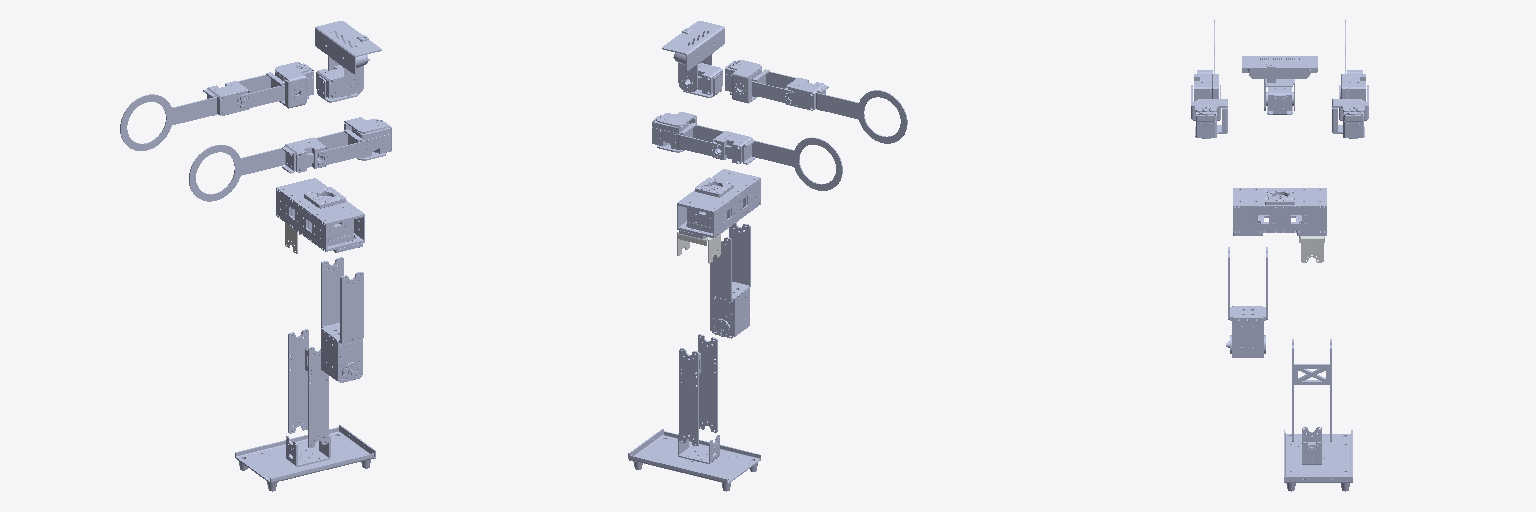
--- Render facts (derived) ---
3 views of the same robot in one strip: view 1: azimuth 30°, elevation 25°; view 2: azimuth 150°, elevation 25°; view 3: azimuth 270°, elevation 25° (orthographic).
Robot: robocup — 26 links, 25 joints (20 revolute, 5 fixed); root link waist_link; default pose: every joint at zero.
Visible links, largest first — view 1: right_thigh_link, waist_link, left_foot_link, left_shank_link, right_elbow_link, left_elbow_link, head_link, right_upper_arm_link, left_upper_arm_link, left_shoulder_link, neck_link, right_shoulder_link; view 2: left_foot_link, waist_link, right_thigh_link, left_shank_link, left_elbow_link, right_elbow_link, head_link, left_upper_arm_link, right_upper_arm_link, right_shoulder_link, neck_link, left_hip_yaw_link; view 3: waist_link, left_foot_link, right_thigh_link, head_link, left_shank_link, right_upper_arm_link, left_elbow_link, left_upper_arm_link, neck_link, right_elbow_link, left_hip_yaw_link, left_shoulder_link (+1 smaller).
Link boxes in pixels (x1,y1,x2,y2): right_thigh_link: (321,257,363,382); waist_link: (276,178,364,252); left_foot_link: (235,425,375,491); left_shank_link: (288,329,328,447); right_elbow_link: (189,137,327,201); left_elbow_link: (120,81,249,150); head_link: (315,21,381,96); right_upper_arm_link: (315,120,391,166); left_upper_arm_link: (237,63,313,109); left_shoulder_link: (275,62,308,108); neck_link: (316,65,357,102); right_shoulder_link: (344,117,385,160); left_foot_link: (628,429,760,491); waist_link: (677,169,760,238); right_thigh_link: (710,222,750,338); left_shank_link: (679,334,717,445); left_elbow_link: (712,131,842,190); right_elbow_link: (785,77,907,143); head_link: (662,21,724,91); left_upper_arm_link: (652,115,723,157); right_upper_arm_link: (725,61,796,104); right_shoulder_link: (730,60,761,103); neck_link: (683,63,722,97); left_hip_yaw_link: (677,232,720,263); waist_link: (1233,188,1326,235); left_foot_link: (1284,427,1352,491); right_thigh_link: (1226,247,1267,357); head_link: (1242,56,1317,110); left_shank_link: (1292,339,1331,441); right_upper_arm_link: (1191,85,1220,138); left_elbow_link: (1340,20,1365,101); left_upper_arm_link: (1339,85,1368,138); neck_link: (1266,87,1293,114); right_elbow_link: (1194,20,1218,101); left_hip_yaw_link: (1299,236,1324,262); left_shoulder_link: (1332,99,1364,136).
Bounding box of the posed robot: 0.3401 × 0.246 × 0.6397 m (x, y, z).
Meshes: 26 distinct files referenced, 13 mesh visuals loaded (13 binary STL); not drawn: 9 (reference not matched to a file when rendering), 4 (file found but could not be loaded).

robot.urdf — robocup:
<?xml version="1.0" encoding="utf-8"?>
<!-- This URDF was automatically created by SolidWorks to URDF Exporter! Originally created by Stephen Brawner ([email redacted]) 
     Commit Version: 1.6.0-1-g15f4949  Build Version: 1.6.7594.29634
     For more information, please see http://wiki.ros.org/sw_urdf_exporter -->
<robot
  name="robocup">
  <link
    name="waist_link">
    <inertial>
      <origin
        xyz="-0.00948845469061838 -6.68530231173747E-11 -0.000683773345869103"
        rpy="0 0 0" />
      <mass
        value="0.209221695507511" />
      <inertia
        ixx="0.000338900830786708"
        ixy="1.46750011912089E-13"
        ixz="1.35893885481487E-06"
        iyy="9.89997448670401E-05"
        iyz="-9.82828065500093E-13"
        izz="0.000355347917020957" />
    </inertial>
    <visual>
      <origin
        xyz="0 0 0"
        rpy="0 0 0" />
      <geometry>
        <mesh
          filename="package://robocup/meshes/waist_link.STL" />
      </geometry>
      <material
        name="">
        <color
          rgba="0.792156862745098 0.819607843137255 0.933333333333333 1" />
      </material>
    </visual>
    <collision>
      <origin
        xyz="0 0 0"
        rpy="0 0 0" />
      <geometry>
        <mesh
          filename="package://robocup/meshes/waist_link.STL" />
      </geometry>
    </collision>
  </link>
  <link
    name="trunk_link">
    <inertial>
      <origin
        xyz="-0.00207929488403982 -0.000148840580601925 0.0988291319345805"
        rpy="0 0 0" />
      <mass
        value="0.6396320994188" />
      <inertia
        ixx="0.00207382837512233"
        ixy="7.20391665944341E-07"
        ixz="-0.000145762768834739"
        iyy="0.00159922346192905"
        iyz="2.52085914195858E-06"
        izz="0.0020054336515524" />
    </inertial>
    <visual>
      <origin
        xyz="0 0 0"
        rpy="0 0 0" />
      <geometry>
        <mesh
          filename="package://robocup/meshes/trunk_link.STL" />
      </geometry>
      <material
        name="">
        <color
          rgba="0.792156862745098 0.819607843137255 0.933333333333333 1" />
      </material>
    </visual>
    <collision>
      <origin
        xyz="0 0 0"
        rpy="0 0 0" />
      <geometry>
        <mesh
          filename="package://robocup/meshes/trunk_link.STL" />
      </geometry>
    </collision>
  </link>
  <joint
    name="waist_yaw_joint"
    type="revolute">
    <origin
      xyz="0 0 0"
      rpy="0 0 0" />
    <parent
      link="waist_link" />
    <child
      link="trunk_link" />
    <axis
      xyz="0 0 1" />
    <limit
      lower="0"
      upper="0"
      effort="0"
      velocity="0" />
  </joint>
  <link
    name="left_shoulder_link">
    <inertial>
      <origin
        xyz="0.00303632774271409 0.0362469594639394 3.30291349825984E-15"
        rpy="0 0 0" />
      <mass
        value="0.00852928935190161" />
      <inertia
        ixx="4.46332786917041E-06"
        ixy="-3.52494995340182E-07"
        ixz="-2.32097760255092E-20"
        iyy="3.60847595287127E-06"
        iyz="1.53828069121075E-21"
        izz="2.76664423653777E-06" />
    </inertial>
    <visual>
      <origin
        xyz="0 0 0"
        rpy="0 0 0" />
      <geometry>
        <mesh
          filename="package://robocup/meshes/left_shoulder_link.STL" />
      </geometry>
      <material
        name="">
        <color
          rgba="0.792156862745098 0.819607843137255 0.933333333333333 1" />
      </material>
    </visual>
    <collision>
      <origin
        xyz="0 0 0"
        rpy="0 0 0" />
      <geometry>
        <mesh
          filename="package://robocup/meshes/left_shoulder_link.STL" />
      </geometry>
    </collision>
  </link>
  <joint
    name="left_shoulder_pitch_joint"
    type="revolute">
    <origin
      xyz="0 0.053 0.14675"
      rpy="0 0 0" />
    <parent
      link="trunk_link" />
    <child
      link="left_shoulder_link" />
    <axis
      xyz="0 -1 0" />
    <limit
      lower="0"
      upper="0"
      effort="0"
      velocity="0" />
  </joint>
  <link
    name="left_upper_arm_link">
    <inertial>
      <origin
        xyz="0.000678411211440078 -1.89875708676845E-07 -0.0191217777296798"
        rpy="0 0 0" />
      <mass
        value="0.0510794115590111" />
      <inertia
        ixx="3.13133402075074E-05"
        ixy="-6.57973359321893E-12"
        ixz="-3.53618283016182E-07"
        iyy="3.06157554760576E-05"
        iyz="2.63047056127221E-10"
        izz="9.80852784205313E-06" />
    </inertial>
    <visual>
      <origin
        xyz="0 0 0"
        rpy="0 0 0" />
      <geometry>
        <mesh
          filename="package://robocup/meshes/left_upper_arm_link.STL" />
      </geometry>
      <material
        name="">
        <color
          rgba="0.792156862745098 0.819607843137255 0.933333333333333 1" />
      </material>
    </visual>
    <collision>
      <origin
        xyz="0 0 0"
        rpy="0 0 0" />
      <geometry>
        <mesh
          filename="package://robocup/meshes/left_upper_arm_link.STL" />
      </geometry>
    </collision>
  </link>
  <joint
    name="left_upper_arm_roll_joint"
    type="revolute">
    <origin
      xyz="0.02425 0.049 0"
      rpy="3.1416 -1.5708 0" />
    <parent
      link="left_shoulder_link" />
    <child
      link="left_upper_arm_link" />
    <axis
      xyz="-1 0 0" />
    <limit
      lower="0"
      upper="0"
      effort="0"
      velocity="0" />
  </joint>
  <link
    name="left_elbow_link">
    <inertial>
      <origin
        xyz="1.63757896132211E-15 0.00252047924263998 -0.0277428195775701"
        rpy="0 0 0" />
      <mass
        value="0.0517677575592799" />
      <inertia
        ixx="9.19234340675184E-05"
        ixy="-3.6598858936204E-21"
        ixz="-2.70805105099186E-20"
        iyy="9.30268857885933E-05"
        iyz="6.58323683446754E-06"
        izz="1.05633111734916E-05" />
    </inertial>
    <visual>
      <origin
        xyz="0 0 0"
        rpy="0 0 0" />
      <geometry>
        <mesh
          filename="package://robocup/meshes/left_elbow_link.STL" />
      </geometry>
      <material
        name="">
        <color
          rgba="0.792156862745098 0.819607843137255 0.933333333333333 1" />
      </material>
    </visual>
    <collision>
      <origin
        xyz="0 0 0"
        rpy="0 0 0" />
      <geometry>
        <mesh
          filename="package://robocup/meshes/left_elbow_link.STL" />
      </geometry>
    </collision>
  </link>
  <joint
    name="left_elbow_pitch_joint"
    type="revolute">
    <origin
      xyz="0 0 -0.10025"
      rpy="0 0 0" />
    <parent
      link="left_upper_arm_link" />
    <child
      link="left_elbow_link" />
    <axis
      xyz="0 -1 0" />
    <limit
      lower="0"
      upper="0"
      effort="0"
      velocity="0" />
  </joint>
  <link
    name="right_shoulder_link">
    <inertial>
      <origin
        xyz="0.00303632774271395 -0.0362469594639394 9.57567358739198E-16"
        rpy="0 0 0" />
      <mass
        value="0.0085292893519016" />
      <inertia
        ixx="4.4633278691704E-06"
        ixy="3.5249499534018E-07"
        ixz="-2.37450475035873E-22"
        iyy="3.60847595287127E-06"
        iyz="3.27353469800624E-21"
        izz="2.76664423653777E-06" />
    </inertial>
    <visual>
      <origin
        xyz="0 0 0"
        rpy="0 0 0" />
      <geometry>
        <mesh
          filename="package://robocup/meshes/right_shoulder_link.STL" />
      </geometry>
      <material
        name="">
        <color
          rgba="0.792156862745098 0.819607843137255 0.933333333333333 1" />
      </material>
    </visual>
    <collision>
      <origin
        xyz="0 0 0"
        rpy="0 0 0" />
      <geometry>
        <mesh
          filename="package://robocup/meshes/right_shoulder_link.STL" />
      </geometry>
    </collision>
  </link>
  <joint
    name="right_shoulder_pitch_joint"
    type="revolute">
    <origin
      xyz="0 -0.053 0.14675"
      rpy="0 0 0" />
    <parent
      link="trunk_link" />
    <child
      link="right_shoulder_link" />
    <axis
      xyz="0 1 0" />
    <limit
      lower="0"
      upper="0"
      effort="0"
      velocity="0" />
  </joint>
  <link
    name="right_upper_arm_link">
    <inertial>
      <origin
        xyz="0.000683044937076008 1.08215084788088E-05 -0.0193161303708199"
        rpy="0 0 0" />
      <mass
        value="0.0511158524108051" />
      <inertia
        ixx="3.18475528264543E-05"
        ixy="4.54446779241524E-10"
        ixz="-4.48940731057543E-07"
        iyy="3.11274405794203E-05"
        iyz="3.94345652689597E-08"
        izz="9.81721455090846E-06" />
    </inertial>
    <visual>
      <origin
        xyz="0 0 0"
        rpy="0 0 0" />
      <geometry>
        <mesh
          filename="package://robocup/meshes/right_upper_arm_link.STL" />
      </geometry>
      <material
        name="">
        <color
          rgba="0.792156862745098 0.819607843137255 0.933333333333333 1" />
      </material>
    </visual>
    <collision>
      <origin
        xyz="0 0 0"
        rpy="0 0 0" />
      <geometry>
        <mesh
          filename="package://robocup/meshes/right_upper_arm_link.STL" />
      </geometry>
    </collision>
  </link>
  <joint
    name="right_upper_arm_roll_joint"
    type="revolute">
    <origin
      xyz="0.02425 -0.049 0"
      rpy="3.1416 -1.5708 0" />
    <parent
      link="right_shoulder_link" />
    <child
      link="right_upper_arm_link" />
    <axis
      xyz="-1 0 0" />
    <limit
      lower="0"
      upper="0"
      effort="0"
      velocity="0" />
  </joint>
  <link
    name="right_elbow_link">
    <inertial>
      <origin
        xyz="1.11022302462516E-16 -0.00230528590818035 -0.0280722416193958"
        rpy="0 0 0" />
      <mass
        value="0.0511468047163823" />
      <inertia
        ixx="9.12967328821757E-05"
        ixy="-4.71058599204397E-21"
        ixz="5.83491703663896E-20"
        iyy="9.25411867194407E-05"
        iyz="-6.89902253698685E-06"
        izz="1.03953224116131E-05" />
    </inertial>
    <visual>
      <origin
        xyz="0 0 0"
        rpy="0 0 0" />
      <geometry>
        <mesh
          filename="package://robocup/meshes/right_elbow_link.STL" />
      </geometry>
      <material
        name="">
        <color
          rgba="0.792156862745098 0.819607843137255 0.933333333333333 1" />
      </material>
    </visual>
    <collision>
      <origin
        xyz="0 0 0"
        rpy="0 0 0" />
      <geometry>
        <mesh
          filename="package://robocup/meshes/right_elbow_link.STL" />
      </geometry>
    </collision>
  </link>
  <joint
    name="right_elbow_pitch_joint"
    type="revolute">
    <origin
      xyz="0 0 -0.10025"
      rpy="0 0 0" />
    <parent
      link="right_upper_arm_link" />
    <child
      link="right_elbow_link" />
    <axis
      xyz="0 1 0" />
    <limit
      lower="0"
      upper="0"
      effort="0"
      velocity="0" />
  </joint>
  <link
    name="neck_link">
    <inertial>
      <origin
        xyz="-0.00156041292470768 -0.000723759920217962 0.0367041914278949"
        rpy="0 0 0" />
      <mass
        value="0.0478789229788551" />
      <inertia
        ixx="8.27547872890049E-06"
        ixy="1.00258688215879E-07"
        ixz="-1.89903966481239E-08"
        iyy="1.34187871471235E-05"
        iyz="4.49034542147312E-08"
        izz="1.40614214294888E-05" />
    </inertial>
    <visual>
      <origin
        xyz="0 0 0"
        rpy="0 0 0" />
      <geometry>
        <mesh
          filename="package://robocup/meshes/neck_link.STL" />
      </geometry>
      <material
        name="">
        <color
          rgba="0.792156862745098 0.819607843137255 0.933333333333333 1" />
      </material>
    </visual>
    <collision>
      <origin
        xyz="0 0 0"
        rpy="0 0 0" />
      <geometry>
        <mesh
          filename="package://robocup/meshes/neck_link.STL" />
      </geometry>
    </collision>
  </link>
  <joint
    name="neck_yaw_joint"
    type="revolute">
    <origin
      xyz="0.021 0 0.1495"
      rpy="0 0 0" />
    <parent
      link="trunk_link" />
    <child
      link="neck_link" />
    <axis
      xyz="0 0 -1" />
    <limit
      lower="0"
      upper="0"
      effort="0"
      velocity="0" />
  </joint>
  <link
    name="head_link">
    <inertial>
      <origin
        xyz="-0.00241864435015915 -0.000578325032218607 0.043331884885227"
        rpy="0 0 0" />
      <mass
        value="0.0703068040668944" />
      <inertia
        ixx="5.41933168038284E-05"
        ixy="1.71317904618446E-07"
        ixz="-1.92864248034834E-07"
        iyy="1.71003833917027E-05"
        iyz="2.75406205939961E-07"
        izz="4.97586290771393E-05" />
    </inertial>
    <visual>
      <origin
        xyz="0 0 0"
        rpy="0 0 0" />
      <geometry>
        <mesh
          filename="package://robocup/meshes/head_link.STL" />
      </geometry>
      <material
        name="">
        <color
          rgba="0.792156862745098 0.819607843137255 0.933333333333333 1" />
      </material>
    </visual>
    <collision>
      <origin
        xyz="0 0 0"
        rpy="0 0 0" />
      <geometry>
        <mesh
          filename="package://robocup/meshes/head_link.STL" />
      </geometry>
    </collision>
  </link>
  <joint
    name="head_pitch_joint"
    type="revolute">
    <origin
      xyz="0.01025 0 0.038"
      rpy="0 0 0" />
    <parent
      link="neck_link" />
    <child
      link="head_link" />
    <axis
      xyz="0 1 0" />
    <limit
      lower="0"
      upper="0"
      effort="0"
      velocity="0" />
  </joint>
  <link
    name="left_hip_yaw_link">
    <inertial>
      <origin
        xyz="-0.000221415113195594 2.87040434199248E-08 -0.0368621298482313"
        rpy="0 0 0" />
      <mass
        value="0.0234087344413401" />
      <inertia
        ixx="5.73715633041054E-06"
        ixy="-1.6778926038732E-11"
        ixz="2.45933010037562E-08"
        iyy="1.23691993953298E-05"
        iyz="2.78039242802723E-12"
        izz="1.27625110986169E-05" />
    </inertial>
    <visual>
      <origin
        xyz="0 0 0"
        rpy="0 0 0" />
      <geometry>
        <mesh
          filename="package://robocup/meshes/left_hip_yaw_link.STL" />
      </geometry>
      <material
        name="">
        <color
          rgba="0.898039215686275 0.917647058823529 0.929411764705882 1" />
      </material>
    </visual>
    <collision>
      <origin
        xyz="0 0 0"
        rpy="0 0 0" />
      <geometry>
        <mesh
          filename="package://robocup/meshes/left_hip_yaw_link.STL" />
      </geometry>
    </collision>
  </link>
  <joint
    name="left_hip_yaw_joint"
    type="revolute">
    <origin
      xyz="0 0.0445 0"
      rpy="0 0 0" />
    <parent
      link="waist_link" />
    <child
      link="left_hip_yaw_link" />
    <axis
      xyz="0 0 -1" />
    <limit
      lower="0"
      upper="0"
      effort="0"
      velocity="0" />
  </joint>
  <link
    name="left_hip_roll_link">
    <inertial>
      <origin
        xyz="0.0264560202844393 2.81419267119387E-05 -0.0154218154218738"
        rpy="0 0 0" />
      <mass
        value="0.185577684373585" />
      <inertia
        ixx="7.62644456712743E-05"
        ixy="-3.53079974453365E-07"
        ixz="7.00492601513896E-07"
        iyy="0.000197383117610255"
        iyz="-1.06809954406819E-07"
        izz="0.000170036099220205" />
    </inertial>
    <visual>
      <origin
        xyz="0 0 0"
        rpy="0 0 0" />
      <geometry>
        <mesh
          filename="package://robocup/meshes/left_hip_roll_link.STL" />
      </geometry>
      <material
        name="">
        <color
          rgba="0.270588235294118 0.270588235294118 0.270588235294118 1" />
      </material>
    </visual>
    <collision>
      <origin
        xyz="0 0 0"
        rpy="0 0 0" />
      <geometry>
        <mesh
          filename="package://robocup/meshes/left_hip_roll_link.STL" />
      </geometry>
    </collision>
  </link>
  <joint
    name="left_hip_roll_joint"
    type="revolute">
    <origin
      xyz="-0.05075 0 -0.06188"
      rpy="0 0 0" />
    <parent
      link="left_hip_yaw_link" />
    <child
      link="left_hip_roll_link" />
    <axis
      xyz="-1 0 0" />
    <limit
      lower="0"
      upper="0"
      effort="0"
      velocity="0" />
  </joint>
  <link
    name="left_thigh_link">
    <inertial>
      <origin
        xyz="-3.42495945978571E-05 7.44140456582359E-05 -0.11135617060622"
        rpy="0 0 0" />
      <mass
        value="0.130028257484268" />
      <inertia
        ixx="0.000172229742728479"
        ixy="-4.6483223223056E-08"
        ixz="-4.83056099668284E-08"
        iyy="0.00015589230608976"
        iyz="2.25328823392367E-07"
        izz="4.77117079869365E-05" />
    </inertial>
    <visual>
      <origin
        xyz="0 0 0"
        rpy="0 0 0" />
      <geometry>
        <mesh
          filename="package://robocup/meshes/left_thigh_link.STL" />
      </geometry>
      <material
        name="">
        <color
          rgba="0.792156862745098 0.819607843137255 0.933333333333333 1" />
      </material>
    </visual>
    <collision>
      <origin
        xyz="0 0 0"
        rpy="0 0 0" />
      <geometry>
        <mesh
          filename="package://robocup/meshes/left_thigh_link.STL" />
      </geometry>
    </collision>
  </link>
  <joint
    name="left_hip_pitch_joint"
    type="revolute">
    <origin
      xyz="0.05077 0 -0.00012"
      rpy="0 0 0" />
    <parent
      link="left_hip_roll_link" />
    <child
      link="left_thigh_link" />
    <axis
      xyz="0 -1 0" />
    <limit
      lower="0"
      upper="0"
      effort="0"
      velocity="0" />
  </joint>
  <link
    name="left_shank_link">
    <inertial>
      <origin
        xyz="0.00211942700396936 5.55111512312578E-17 -0.0648672619911794"
        rpy="0 0 0" />
      <mass
        value="0.0297851126602444" />
      <inertia
        ixx="6.16541128313656E-05"
        ixy="1.01134569204413E-20"
        ixz="-1.60136858658058E-06"
        iyy="4.64036585684407E-05"
        iyz="4.25121951914627E-21"
        izz="2.02829249667487E-05" />
    </inertial>
    <visual>
      <origin
        xyz="0 0 0"
        rpy="0 0 0" />
      <geometry>
        <mesh
          filename="package://robocup/meshes/left_shank_link.STL" />
      </geometry>
      <material
        name="">
        <color
          rgba="0.792156862745098 0.819607843137255 0.933333333333333 1" />
      </material>
    </visual>
    <collision>
      <origin
        xyz="0 0 0"
        rpy="0 0 0" />
      <geometry>
        <mesh
          filename="package://robocup/meshes/left_shank_link.STL" />
      </geometry>
    </collision>
  </link>
  <joint
    name="left_knee_pitch_joint"
    type="revolute">
    <origin
      xyz="0 0 -0.14"
      rpy="0 0 0" />
    <parent
      link="left_thigh_link" />
    <child
      link="left_shank_link" />
    <axis
      xyz="0 1 0" />
    <limit
      lower="0"
      upper="0"
      effort="0"
      velocity="0" />
  </joint>
  <link
    name="left_ankle_link">
    <inertial>
      <origin
        xyz="-0.0243619748730696 7.61370842207038E-05 0.0153018154218738"
        rpy="0 0 0" />
      <mass
        value="0.185577684373585" />
      <inertia
        ixx="7.62635168758286E-05"
        ixy="-1.18118833820868E-07"
        ixz="-6.78268768336671E-07"
        iyy="0.000196949569147409"
        iyz="8.56549408551343E-08"
        izz="0.000169601621961913" />
    </inertial>
    <visual>
      <origin
        xyz="0 0 0"
        rpy="0 0 0" />
      <geometry>
        <mesh
          filename="package://robocup/meshes/left_ankle_link.STL" />
      </geometry>
      <material
        name="">
        <color
          rgba="0.792156862745098 0.819607843137255 0.933333333333333 1" />
      </material>
    </visual>
    <collision>
      <origin
        xyz="0 0 0"
        rpy="0 0 0" />
      <geometry>
        <mesh
          filename="package://robocup/meshes/left_ankle_link.STL" />
      </geometry>
    </collision>
  </link>
  <joint
    name="left_ankle_pitch_joint"
    type="revolute">
    <origin
      xyz="0 0 -0.14"
      rpy="0 0 0" />
    <parent
      link="left_shank_link" />
    <child
      link="left_ankle_link" />
    <axis
      xyz="0 -1 0" />
    <limit
      lower="0"
      upper="0"
      effort="0"
      velocity="0" />
  </joint>
  <link
    name="left_foot_link">
    <inertial>
      <origin
        xyz="0.0540374180370118 0.00742076380487194 -0.0325457026283866"
        rpy="0 0 0" />
      <mass
        value="0.0465401343494676" />
      <inertia
        ixx="4.1333845728446E-05"
        ixy="-1.51051005199588E-07"
        ixz="-6.21176879901941E-07"
        iyy="0.000113524055426782"
        iyz="4.79535885428363E-07"
        izz="0.000151411754822504" />
    </inertial>
    <visual>
      <origin
        xyz="0 0 0"
        rpy="0 0 0" />
      <geometry>
        <mesh
          filename="package://robocup/meshes/left_foot_link.STL" />
      </geometry>
      <material
        name="">
        <color
          rgba="0.792156862745098 0.819607843137255 0.933333333333333 1" />
      </material>
    </visual>
    <collision>
      <origin
        xyz="0 0 0"
        rpy="0 0 0" />
      <geometry>
        <mesh
          filename="package://robocup/meshes/left_foot_link.STL" />
      </geometry>
    </collision>
  </link>
  <joint
    name="left_ankle_roll_joint"
    type="revolute">
    <origin
      xyz="-0.05077 0 -0.00012"
      rpy="0 0 0" />
    <parent
      link="left_ankle_link" />
    <child
      link="left_foot_link" />
    <axis
      xyz="-1 0 0" />
    <limit
      lower="0"
      upper="0"
      effort="0"
      velocity="0" />
  </joint>
  <link
    name="left_bottom_foot_fake_link">
    <inertial>
      <origin
        xyz="-1.74472058689368E-06 -0.0445712226963407 0.337962961715387"
        rpy="0 0 0" />
      <mass
        value="2.39471689036948" />
      <inertia
        ixx="0.0850429424414065"
        ixy="2.77221119605317E-06"
        ixz="-0.00728137069999243"
        iyy="0.083432238121855"
        iyz="3.92611874771957E-05"
        izz="0.011760362768571" />
    </inertial>
    <visual>
      <origin
        xyz="0 0 0"
        rpy="0 0 0" />
      <geometry>
        <mesh
          filename="package://robocup/meshes/left_bottom_foot_fake_link.STL" />
      </geometry>
      <material
        name="">
        <color
          rgba="1 1 1 1" />
      </material>
    </visual>
    <collision>
      <origin
        xyz="0 0 0"
        rpy="0 0 0" />
      <geometry>
        <mesh
          filename="package://robocup/meshes/left_bottom_foot_fake_link.STL" />
      </geometry>
    </collision>
  </link>
  <joint
    name="left_bottom_foot_fake_joint"
    type="fixed">
    <origin
      xyz="0.051763 0 -0.0486"
      rpy="0 0 0" />
    <parent
      link="left_foot_link" />
    <child
      link="left_bottom_foot_fake_link" />
    <axis
      xyz="0 0 0" />
  </joint>
  <link
    name="left_front_foot_fake_link">
    <inertial>
      <origin
        xyz="-0.0800017447203732 -0.0530712226963441 0.316958580720759"
        rpy="0 0 0" />
      <mass
        value="2.39471689036948" />
      <inertia
        ixx="0.0850429424413973"
        ixy="2.77221119615336E-06"
        ixz="-0.00728137070003878"
        iyy="0.0834322381218549"
        iyz="3.92611874779559E-05"
        izz="0.0117603627685802" />
    </inertial>
    <visual>
      <origin
        xyz="0 0 0"
        rpy="0 0 0" />
      <geometry>
        <mesh
          filename="package://robocup/meshes/left_front_foot_fake_link.STL" />
      </geometry>
      <material
        name="">
        <color
          rgba="1 1 1 1" />
      </material>
    </visual>
    <collision>
      <origin
        xyz="0 0 0"
        rpy="0 0 0" />
      <geometry>
        <mesh
          filename="package://robocup/meshes/left_front_foot_fake_link.STL" />
      </geometry>
    </collision>
  </link>
  <joint
    name="left_front_foot_fake_joint"
    type="fixed">
    <origin
      xyz="0.13176 0.0085 -0.027596"
      rpy="0 0 0" />
    <parent
      link="left_foot_link" />
    <child
      link="left_front_foot_fake_link" />
    <axis
      xyz="0 0 0" />
  </joint>
  <link
    name="right_hip_yaw_link">
    <inertial>
      <origin
        xyz="-0.000221415113196538 2.87040437529917E-08 -0.0368621298482309"
        rpy="0 0 0" />
      <mass
        value="0.0234087344413401" />
      <inertia
        ixx="5.73715633041056E-06"
        ixy="-1.67789260333812E-11"
        ixz="2.45933010038134E-08"
        iyy="1.23691993953298E-05"
        iyz="2.78039242772437E-12"
        izz="1.27625110986169E-05" />
    </inertial>
    <visual>
      <origin
        xyz="0 0 0"
        rpy="0 0 0" />
      <geometry>
        <mesh
          filename="package://robocup/meshes/right_hip_yaw_link.STL" />
      </geometry>
      <material
        name="">
        <color
          rgba="0.898039215686275 0.917647058823529 0.929411764705882 1" />
      </material>
    </visual>
    <collision>
      <origin
        xyz="0 0 0"
        rpy="0 0 0" />
      <geometry>
        <mesh
          filename="package://robocup/meshes/right_hip_yaw_link.STL" />
      </geometry>
    </collision>
  </link>
  <joint
    name="right_hip_yaw_joint"
    type="revolute">
    <origin
      xyz="0 -0.0445 0"
      rpy="0 0 0" />
    <parent
      link="waist_link" />
    <child
      link="right_hip_yaw_link" />
    <axis
      xyz="0 0 1" />
    <limit
      lower="0"
      upper="0"
      effort="0"
      velocity="0" />
  </joint>
  <link
    name="right_hip_roll_link">
    <inertial>
      <origin
        xyz="0.0264080251268297 -7.61370843215536E-05 -0.0154218154218739"
        rpy="0 0 0" />
      <mass
        value="0.185577684373585" />
      <inertia
        ixx="7.62635168758286E-05"
        ixy="1.18118833820839E-07"
        ixz="6.78268768336935E-07"
        iyy="0.00019694956914741"
        iyz="8.56549408551436E-08"
        izz="0.000169601621961913" />
    </inertial>
    <visual>
      <origin
        xyz="0 0 0"
        rpy="0 0 0" />
      <geometry>
        <mesh
          filename="package://robocup/meshes/right_hip_roll_link.STL" />
      </geometry>
      <material
        name="">
        <color
          rgba="0.270588235294118 0.270588235294118 0.270588235294118 1" />
      </material>
    </visual>
    <collision>
      <origin
        xyz="0 0 0"
        rpy="0 0 0" />
      <geometry>
        <mesh
          filename="package://robocup/meshes/right_hip_roll_link.STL" />
      </geometry>
    </collision>
  </link>
  <joint
    name="right_hip_roll_joint"
    type="revolute">
    <origin
      xyz="-0.05075 0 -0.06188"
      rpy="0 0 0" />
    <parent
      link="right_hip_yaw_link" />
    <child
      link="right_hip_roll_link" />
    <axis
      xyz="-1 0 0" />
    <limit
      lower="0"
      upper="0"
      effort="0"
      velocity="0" />
  </joint>
  <link
    name="right_thigh_link">
    <inertial>
      <origin
        xyz="3.42495945983567E-05 -7.44140456583331E-05 -0.111356170606221"
        rpy="0 0 0" />
      <mass
        value="0.130028257484268" />
      <inertia
        ixx="0.000172229742728479"
        ixy="-4.64832232230485E-08"
        ixz="4.83056099672983E-08"
        iyy="0.00015589230608976"
        iyz="-2.25328823392437E-07"
        izz="4.77117079869365E-05" />
    </inertial>
    <visual>
      <origin
        xyz="0 0 0"
        rpy="0 0 0" />
      <geometry>
        <mesh
          filename="package://robocup/meshes/right_thigh_link.STL" />
      </geometry>
      <material
        name="">
        <color
          rgba="0.792156862745098 0.819607843137255 0.933333333333333 1" />
      </material>
    </visual>
    <collision>
      <origin
        xyz="0 0 0"
        rpy="0 0 0" />
      <geometry>
        <mesh
          filename="package://robocup/meshes/right_thigh_link.STL" />
      </geometry>
    </collision>
  </link>
  <joint
    name="right_hip_pitch_joint"
    type="revolute">
    <origin
      xyz="0.05077 0 -0.00012"
      rpy="0 0 0" />
    <parent
      link="right_hip_roll_link" />
    <child
      link="right_thigh_link" />
    <axis
      xyz="0 1 0" />
    <limit
      lower="0"
      upper="0"
      effort="0"
      velocity="0" />
  </joint>
  <link
    name="right_shank_link">
    <inertial>
      <origin
        xyz="0.00211942700396966 0 -0.0648672619911792"
        rpy="0 0 0" />
      <mass
        value="0.0297851126602444" />
      <inertia
        ixx="6.16541128313656E-05"
        ixy="-1.72022202107548E-19"
        ixz="-1.60136858658041E-06"
        iyy="4.64036585684406E-05"
        iyz="-7.51769465648825E-20"
        izz="2.02829249667487E-05" />
    </inertial>
    <visual>
      <origin
        xyz="0 0 0"
        rpy="0 0 0" />
      <geometry>
        <mesh
          filename="package://robocup/meshes/right_shank_link.STL" />
      </geometry>
      <material
        name="">
        <color
          rgba="0.792156862745098 0.819607843137255 0.933333333333333 1" />
      </material>
    </visual>
    <collision>
      <origin
        xyz="0 0 0"
        rpy="0 0 0" />
      <geometry>
        <mesh
          filename="package://robocup/meshes/right_shank_link.STL" />
      </geometry>
    </collision>
  </link>
  <joint
    name="right_knee_pitch_joint"
    type="revolute">
    <origin
      xyz="0 0 -0.14"
      rpy="0 0 0" />
    <parent
      link="right_thigh_link" />
    <child
      link="right_shank_link" />
    <axis
      xyz="0 1 0" />
    <limit
      lower="0"
      upper="0"
      effort="0"
      velocity="0" />
  </joint>
  <link
    name="right_ankle_link">
    <inertial>
      <origin
        xyz="-0.0243139797154601 -2.81419266111582E-05 0.0153018154218738"
        rpy="0 0 0" />
      <mass
        value="0.185577684373585" />
      <inertia
        ixx="7.62644456712743E-05"
        ixy="3.53079974453384E-07"
        ixz="-7.0049260151363E-07"
        iyy="0.000197383117610254"
        iyz="-1.06809954406833E-07"
        izz="0.000170036099220204" />
    </inertial>
    <visual>
      <origin
        xyz="0 0 0"
        rpy="0 0 0" />
      <geometry>
        <mesh
          filename="package://robocup/meshes/right_ankle_link.STL" />
      </geometry>
      <material
        name="">
        <color
          rgba="0.792156862745098 0.819607843137255 0.933333333333333 1" />
      </material>
    </visual>
    <collision>
      <origin
        xyz="0 0 0"
        rpy="0 0 0" />
      <geometry>
        <mesh
          filename="package://robocup/meshes/right_ankle_link.STL" />
      </geometry>
    </collision>
  </link>
  <joint
    name="right_ankle_pitch_joint"
    type="revolute">
    <origin
      xyz="0 0 -0.14"
      rpy="0 0 0" />
    <parent
      link="right_shank_link" />
    <child
      link="right_ankle_link" />
    <axis
      xyz="0 1 0" />
    <limit
      lower="0"
      upper="0"
      effort="0"
      velocity="0" />
  </joint>
  <link
    name="right_foot_link">
    <inertial>
      <origin
        xyz="0.054037418037219 -0.00742106828958711 -0.0325457026283425"
        rpy="0 0 0" />
      <mass
        value="0.0465401343494674" />
      <inertia
        ixx="4.13336941039743E-05"
        ixy="1.51414343960298E-07"
        ixz="-6.21176879970191E-07"
        iyy="0.000113524055426785"
        iyz="-4.79319927951684E-07"
        izz="0.000151411603198034" />
    </inertial>
    <visual>
      <origin
        xyz="0 0 0"
        rpy="0 0 0" />
      <geometry>
        <mesh
          filename="package://robocup/meshes/right_foot_link.STL" />
      </geometry>
      <material
        name="">
        <color
          rgba="0.792156862745098 0.819607843137255 0.933333333333333 1" />
      </material>
    </visual>
    <collision>
      <origin
        xyz="0 0 0"
        rpy="0 0 0" />
      <geometry>
        <mesh
          filename="package://robocup/meshes/right_foot_link.STL" />
      </geometry>
    </collision>
  </link>
  <joint
    name="right_ankle_roll_joint"
    type="fixed">
    <origin
      xyz="-0.05077 0 -0.00012"
      rpy="0 0 0" />
    <parent
      link="right_ankle_link" />
    <child
      link="right_foot_link" />
    <axis
      xyz="0 0 0" />
  </joint>
  <link
    name="right_bottom_foot_fake_link">
    <inertial>
      <origin
        xyz="-1.74472039474183E-06 0.0444287773036555 0.337962961715387"
        rpy="0 0 0" />
      <mass
        value="2.39471689036948" />
      <inertia
        ixx="0.0850429424413973"
        ixy="2.77221119615185E-06"
        ixz="-0.00728137070003879"
        iyy="0.083432238121855"
        iyz="3.9261187477951E-05"
        izz="0.0117603627685802" />
    </inertial>
    <visual>
      <origin
        xyz="0 0 0"
        rpy="0 0 0" />
      <geometry>
        <mesh
          filename="package://robocup/meshes/right_bottom_foot_fake_link.STL" />
      </geometry>
      <material
        name="">
        <color
          rgba="1 1 1 1" />
      </material>
    </visual>
    <collision>
      <origin
        xyz="0 0 0"
        rpy="0 0 0" />
      <geometry>
        <mesh
          filename="package://robocup/meshes/right_bottom_foot_fake_link.STL" />
      </geometry>
    </collision>
  </link>
  <joint
    name="right_bottom_foot_fake_joint"
    type="fixed">
    <origin
      xyz="0.051763 0 -0.0486"
      rpy="0 0 0" />
    <parent
      link="right_foot_link" />
    <child
      link="right_bottom_foot_fake_link" />
    <axis
      xyz="0 0 0" />
  </joint>
  <link
    name="right_front_foot_fake_link">
    <inertial>
      <origin
        xyz="-0.0800017447203948 0.0529287773036554 0.316958580720759"
        rpy="0 0 0" />
      <mass
        value="2.39471689036948" />
      <inertia
        ixx="0.0850429424413973"
        ixy="2.77221119614898E-06"
        ixz="-0.00728137070003876"
        iyy="0.0834322381218549"
        iyz="3.92611874779668E-05"
        izz="0.0117603627685802" />
    </inertial>
    <visual>
      <origin
        xyz="0 0 0"
        rpy="0 0 0" />
      <geometry>
        <mesh
          filename="package://robocup/meshes/right_front_foot_fake_link.STL" />
      </geometry>
      <material
        name="">
        <color
          rgba="1 1 1 1" />
      </material>
    </visual>
    <collision>
      <origin
        xyz="0 0 0"
        rpy="0 0 0" />
      <geometry>
        <mesh
          filename="package://robocup/meshes/right_front_foot_fake_link.STL" />
      </geometry>
    </collision>
  </link>
  <joint
    name="right_front_foot_fake_joint"
    type="fixed">
    <origin
      xyz="0.13176 -0.0085 -0.027596"
      rpy="0 0 0" />
    <parent
      link="right_foot_link" />
    <child
      link="right_front_foot_fake_link" />
    <axis
      xyz="0 0 0" />
  </joint>
</robot>
